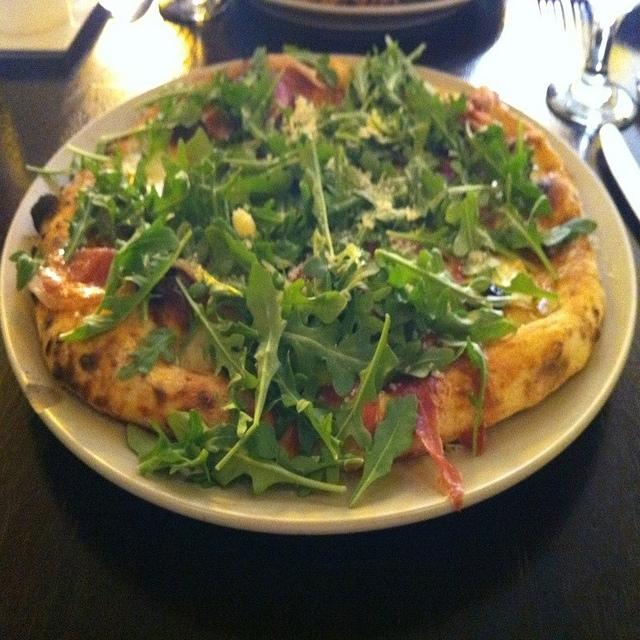lettuce: (127, 396, 347, 496), (215, 258, 286, 471), (66, 227, 193, 341), (375, 248, 518, 342), (331, 313, 400, 451), (463, 120, 552, 216), (272, 341, 342, 463), (175, 276, 249, 391), (348, 393, 420, 508), (94, 226, 179, 316), (242, 64, 315, 158), (436, 334, 488, 462), (350, 170, 422, 248), (488, 203, 558, 280), (384, 324, 466, 387), (252, 195, 318, 268), (288, 144, 329, 258), (100, 99, 204, 142), (165, 164, 217, 244), (324, 144, 368, 233), (405, 78, 460, 146), (338, 282, 392, 344), (220, 162, 294, 206), (448, 192, 497, 256), (118, 328, 176, 380), (281, 280, 346, 326), (201, 96, 254, 150), (67, 144, 123, 195), (216, 66, 274, 115), (284, 42, 338, 92), (370, 40, 408, 110), (204, 227, 256, 278), (132, 171, 190, 212), (64, 196, 98, 262), (536, 217, 599, 250), (404, 156, 444, 204), (402, 122, 440, 170), (316, 104, 368, 137), (9, 246, 46, 292), (339, 262, 381, 302), (366, 108, 408, 146), (289, 92, 317, 142), (91, 192, 121, 238), (358, 149, 397, 184), (424, 116, 451, 162), (385, 293, 417, 328), (223, 140, 261, 161), (337, 117, 362, 137)
